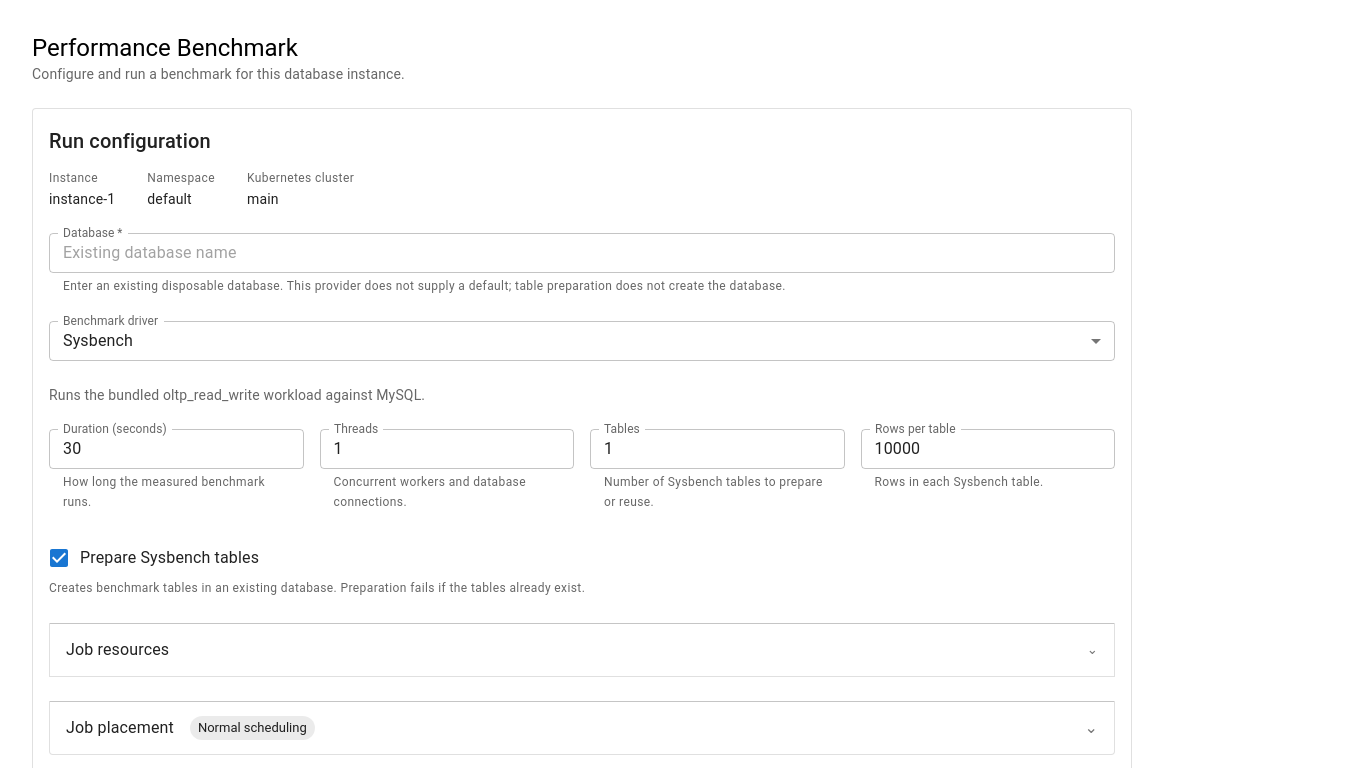
Test case: benchmark driver workflow › offers only Sysbench for percona-server-mysql
Press the mouse on the dropdown named "Benchmark driver" at (98, 341), box [63, 331, 133, 350]
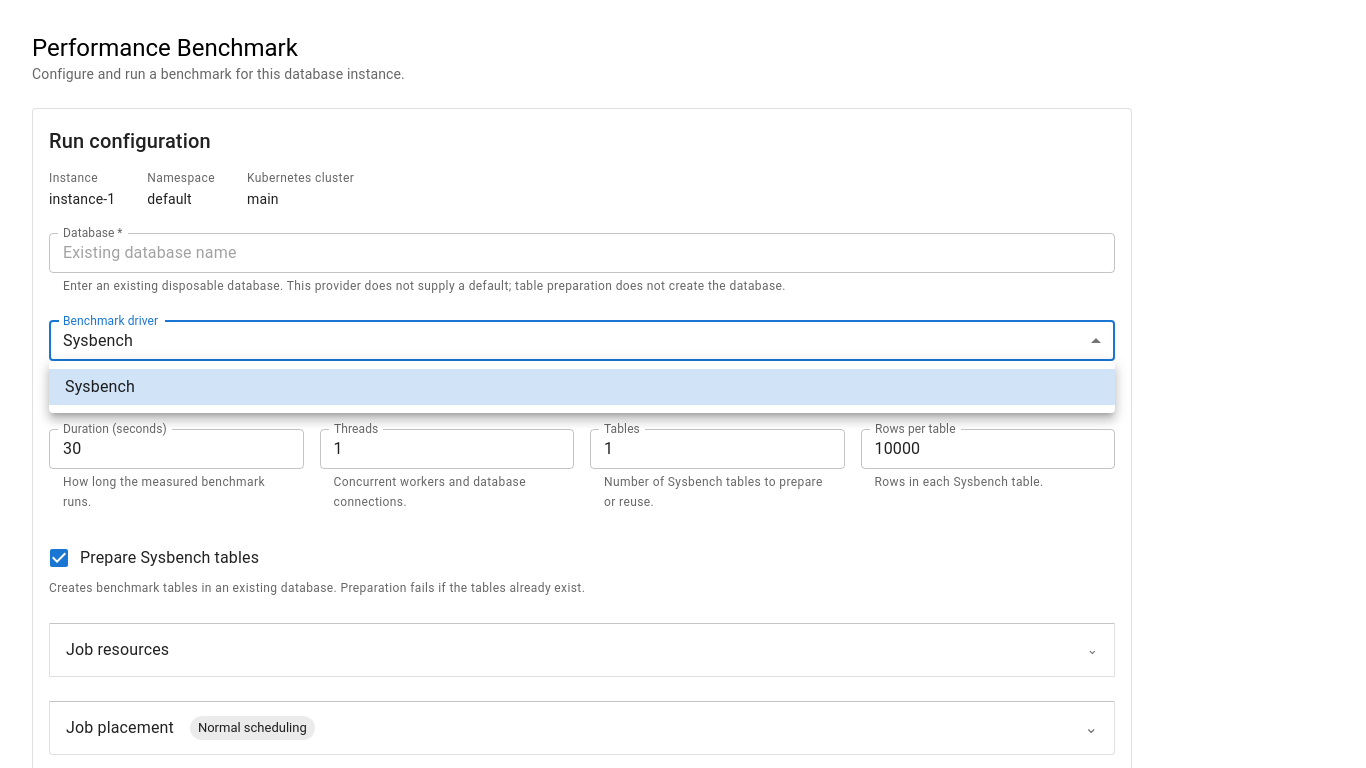
Expected: the number of options is 1, [49, 369, 1115, 405]
Expected: the option reads "Sysbench", [49, 369, 1115, 405]
